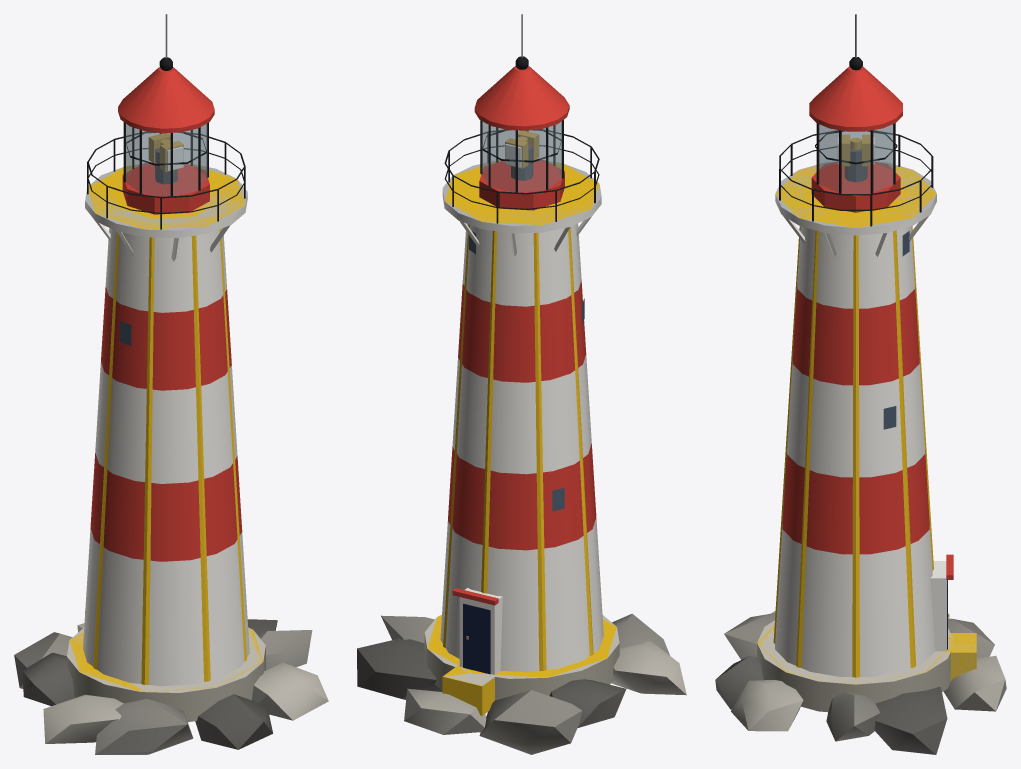
The model's file is lm_lighthouse.glb.
3 renders of one model, left to right at view 1: azimuth 30°, elevation 25°; view 2: azimuth 150°, elevation 25°; view 3: azimuth 270°, elevation 25°, orthographic. The views are drawn at different scales.
Visible parts, largest first — view 1: lm_lighthouse__shell, lm_lighthouse__col, lm_lighthouse__lamp; view 2: lm_lighthouse__shell, lm_lighthouse__col, lm_lighthouse__lamp; view 3: lm_lighthouse__shell, lm_lighthouse__col, lm_lighthouse__lamp.
Boxes of the visible parts, x1,y1,x2,y2 form: lm_lighthouse__shell: [14, 14, 328, 754]; lm_lighthouse__col: [69, 163, 263, 691]; lm_lighthouse__lamp: [148, 133, 183, 171]; lm_lighthouse__shell: [357, 14, 686, 754]; lm_lighthouse__col: [427, 160, 616, 715]; lm_lighthouse__lamp: [505, 130, 539, 168]; lm_lighthouse__shell: [715, 14, 1006, 754]; lm_lighthouse__col: [757, 166, 976, 684]; lm_lighthouse__lamp: [837, 134, 874, 166].
Size of the model in its own units: 10.01 by 23.32 by 8.83.
Materials: 3 (1 with a texture image).
